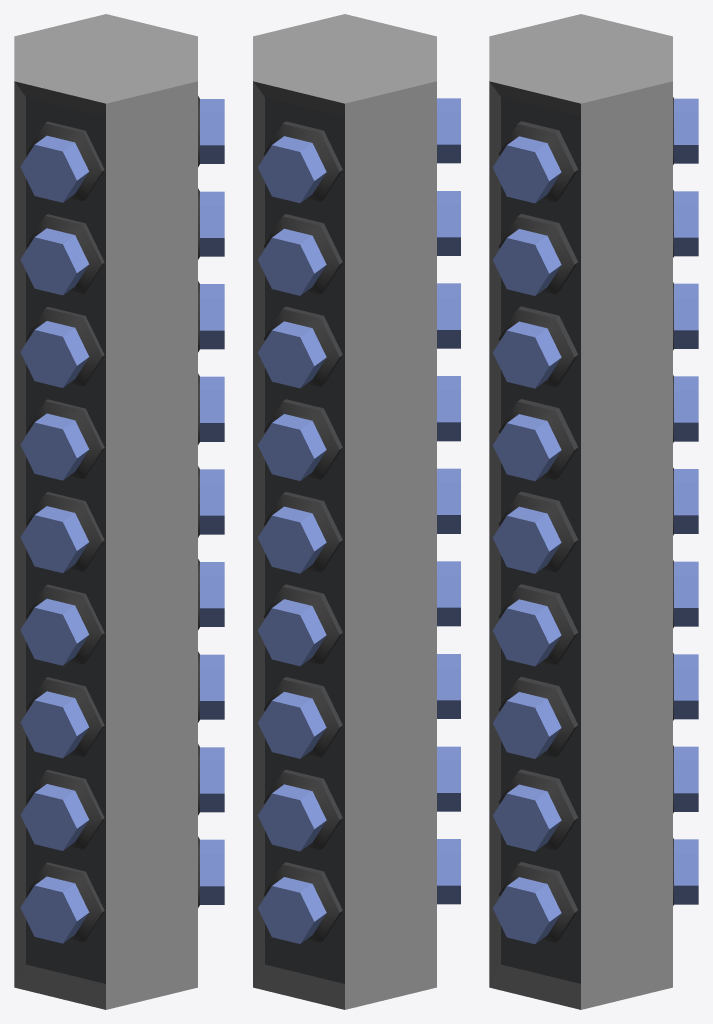
The model's file is Extra Power Rod.fbx.
The picture shows the model from 3 angles, left to right: view 1: azimuth 30°, elevation 25°; view 2: azimuth 150°, elevation 25°; view 3: azimuth 270°, elevation 25°; orthographic projection.
Parts seen in each view (by area): view 1: BatteryTower_Asset; view 2: BatteryTower_Asset; view 3: BatteryTower_Asset.
Part boxes in pixels (box(x1,y1,x2,y2)): BatteryTower_Asset: box(14, 14, 224, 1009); BatteryTower_Asset: box(253, 14, 460, 1009); BatteryTower_Asset: box(489, 14, 698, 1009).
Bounding box in the file's own units: 79.37 × 338 × 70.74.
